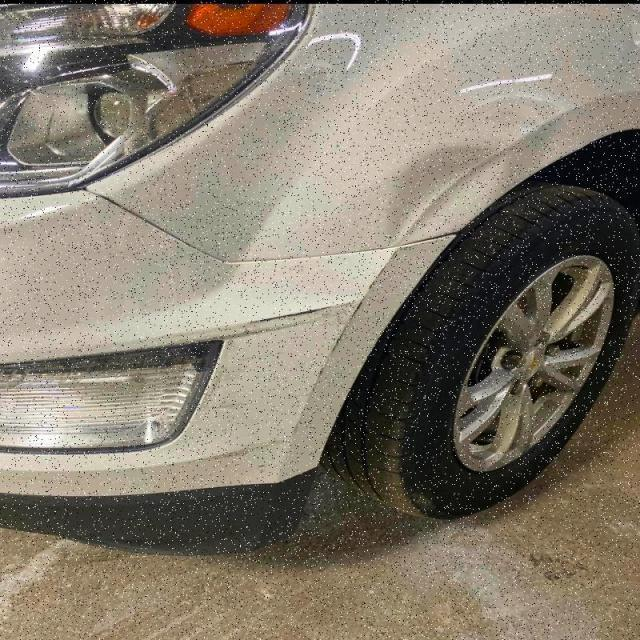dent: (386, 90, 640, 247)
